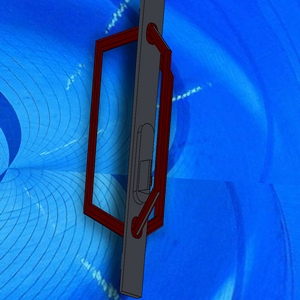submarine: (78, 1, 190, 297)
